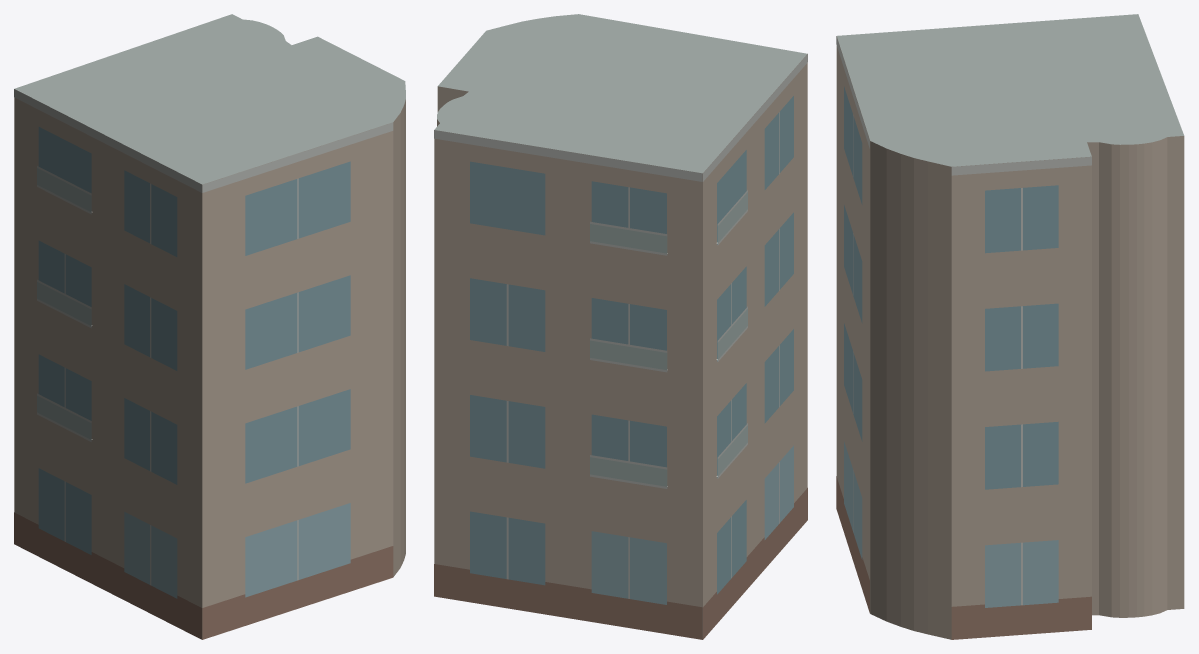
File: survey-upis-32504544.glb
3 views of the same model, side by side, from view 1: azimuth 30°, elevation 25°; view 2: azimuth 150°, elevation 25°; view 3: azimuth 270°, elevation 25° (orthographic). The views are drawn at different scales.
Parts seen in each view (by area): view 1: survey-upis-32504544.tmp; view 2: survey-upis-32504544.tmp; view 3: survey-upis-32504544.tmp.
Part boxes in pixels (x1=…): survey-upis-32504544.tmp: x1=14, y1=14, x2=405, y2=639; survey-upis-32504544.tmp: x1=434, y1=14, x2=807, y2=639; survey-upis-32504544.tmp: x1=836, y1=14, x2=1184, y2=639.
Size of the model in its own units: 9.08 by 13.1 by 8.74.
